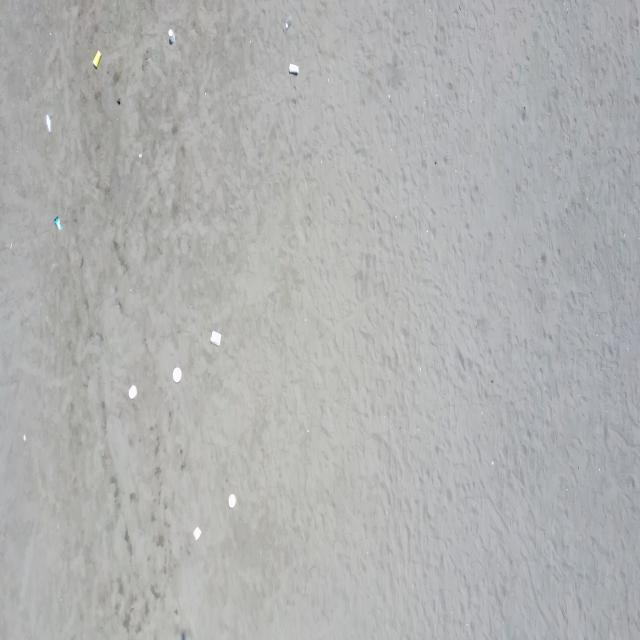take-away-containers: (210, 330, 222, 348), (172, 366, 182, 384), (228, 492, 237, 510), (128, 384, 138, 400), (193, 526, 202, 541)
takeaway-cup: (44, 112, 53, 136), (92, 49, 102, 70), (282, 13, 292, 34), (288, 61, 300, 76), (54, 215, 63, 231), (168, 29, 176, 45)
